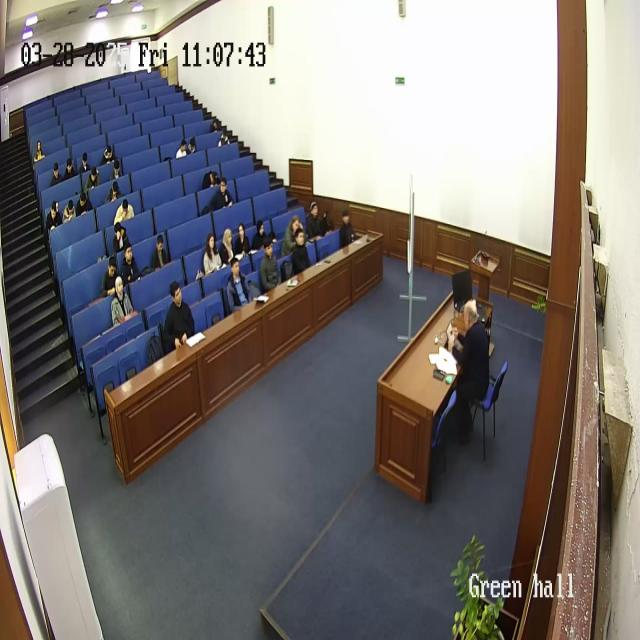person: (446, 298, 492, 442), (162, 281, 196, 351), (226, 255, 254, 311), (259, 235, 281, 293), (110, 274, 134, 327), (288, 225, 311, 277), (280, 213, 304, 259), (201, 230, 223, 278), (119, 243, 141, 287), (100, 256, 120, 299), (306, 200, 326, 240), (212, 175, 234, 211), (338, 208, 358, 247), (150, 232, 170, 271), (234, 220, 253, 260), (219, 226, 237, 266), (110, 220, 130, 255), (251, 218, 271, 252), (114, 196, 135, 227), (46, 200, 62, 232), (75, 188, 91, 216), (62, 197, 78, 224), (86, 165, 101, 191), (100, 144, 116, 166), (50, 161, 64, 186), (108, 178, 122, 202), (64, 156, 78, 180), (201, 170, 218, 189), (175, 139, 189, 159), (79, 152, 91, 174), (34, 138, 44, 164), (187, 136, 198, 155), (209, 115, 221, 132), (218, 132, 228, 148)
